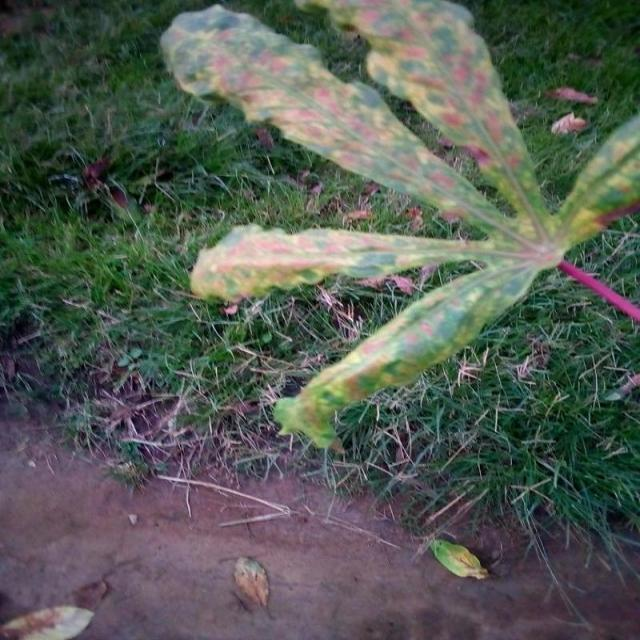cassava leaf: (160, 0, 639, 452), (430, 537, 490, 580)
